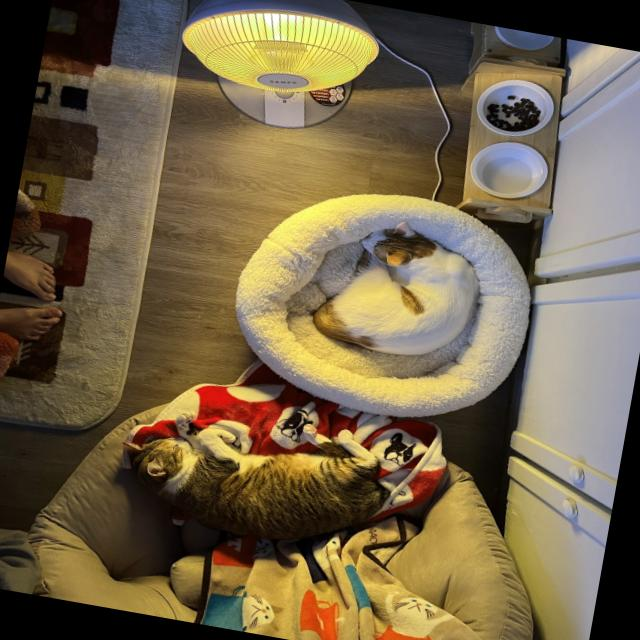cat1: (309, 211, 491, 371)
cat2: (107, 410, 396, 566)
